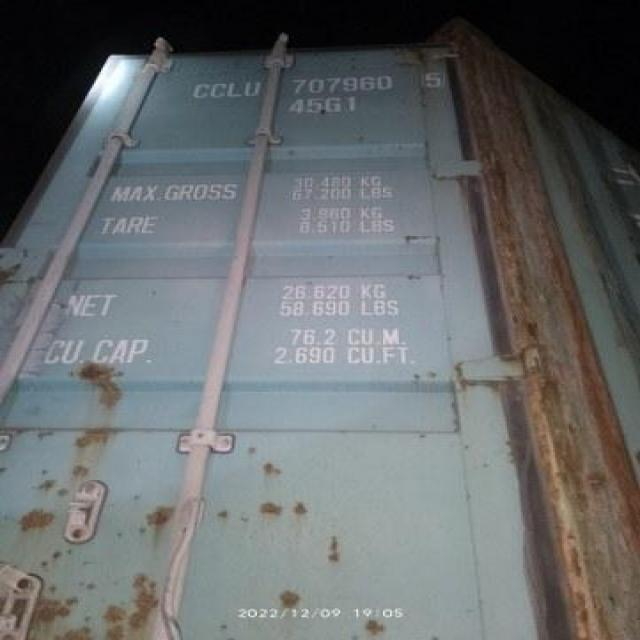container_number_h: (171, 58, 460, 129)
